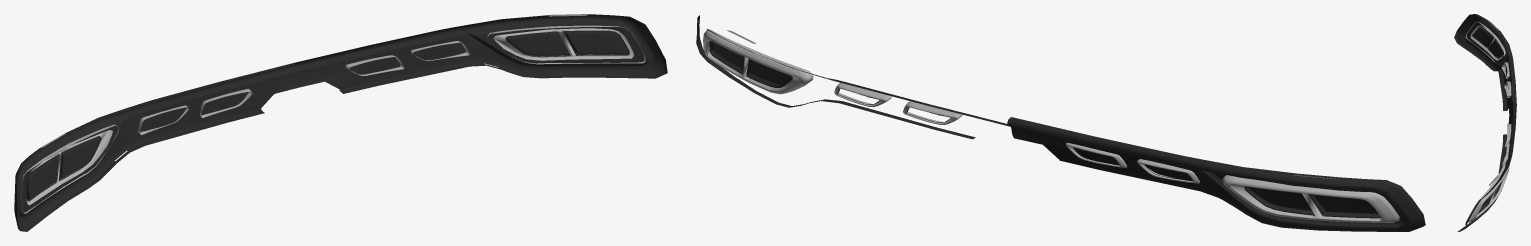
The picture shows the model from 3 angles, left to right: view 1: azimuth 30°, elevation 25°; view 2: azimuth 150°, elevation 25°; view 3: azimuth 270°, elevation 25°; orthographic projection. The views are drawn at different scales.
Parts seen in each view (by area): view 1: rear bumper 4; view 2: rear bumper 4; view 3: rear bumper 4.
Part boxes in pixels (x1,y1,x2,y2): rear bumper 4: [14, 14, 667, 231]; rear bumper 4: [696, 15, 1425, 231]; rear bumper 4: [1454, 14, 1516, 231].
Size of the model in its own units: 1.6 by 0.1365 by 0.2187.
3 materials, 1 textured.
